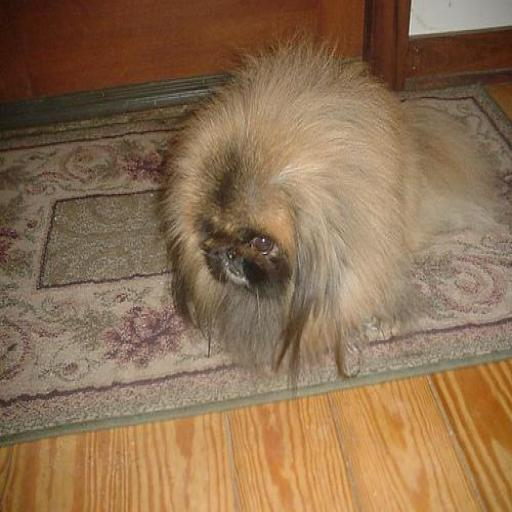dog_face: (176, 82, 390, 343)
